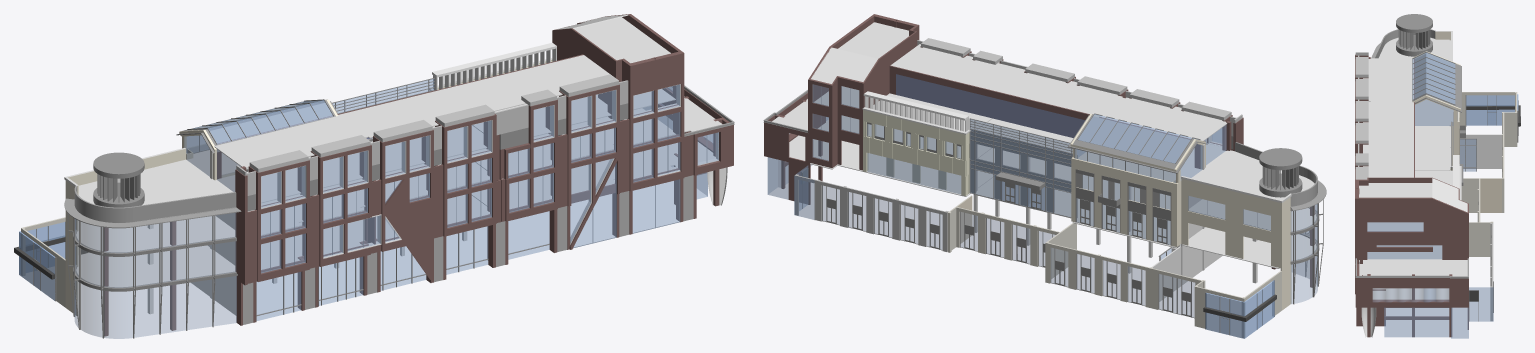
3 renders of one model, left to right at view 1: azimuth 30°, elevation 25°; view 2: azimuth 150°, elevation 25°; view 3: azimuth 270°, elevation 25°, orthographic. The views are drawn at different scales.
Parts seen in each view (by area): view 1: Material2 (×67), Material3; view 2: Material2 (×62), Material3 (×2); view 3: Material2 (×45), Material3 (×2).
Part boxes in pixels (x1,y1,x2,y2): Material2 (×67): (19,14,733,338); Material3: (21,217,88,307); Material2 (×62): (764,14,1318,338); Material3 (×2): (947,114,1281,337); Material2 (×45): (1355,14,1520,338); Material3 (×2): (1412,59,1517,256).
Size of the model in its own units: 3330 by 868 by 1054.
